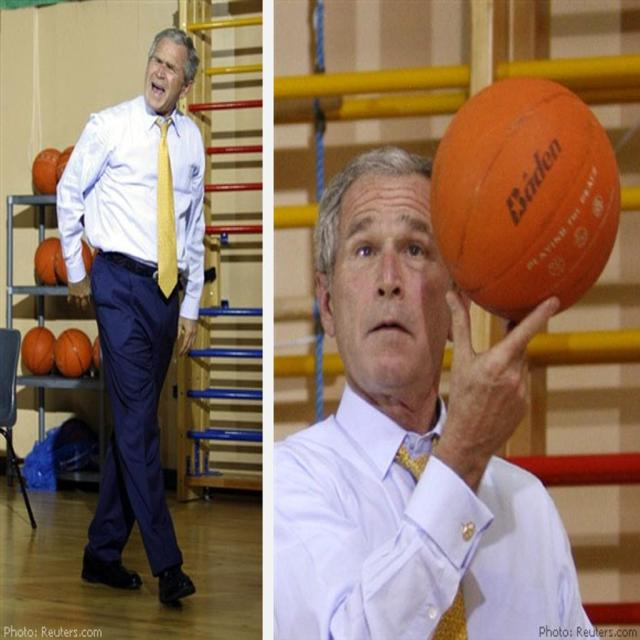Face: (329, 169, 456, 421), (135, 40, 200, 115)
